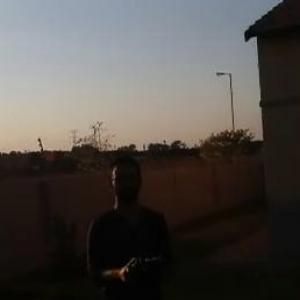follow: (83, 151, 180, 299)
